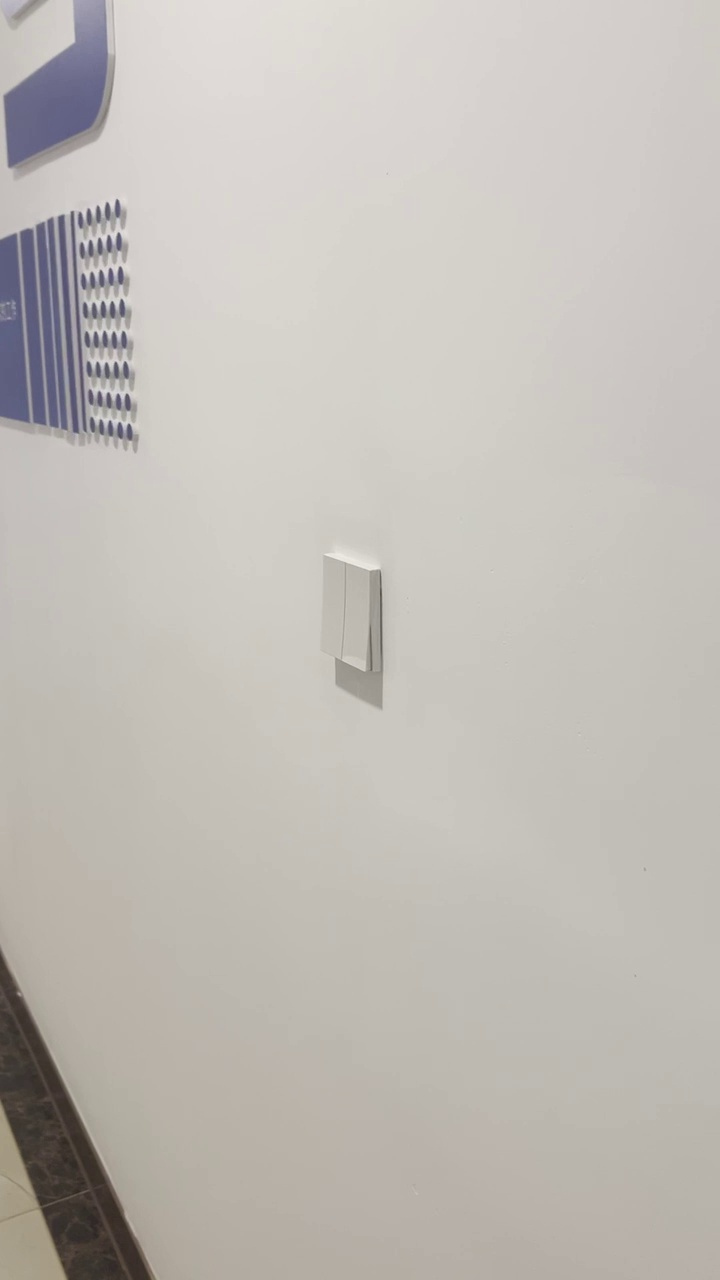button: (314, 548, 388, 677)
